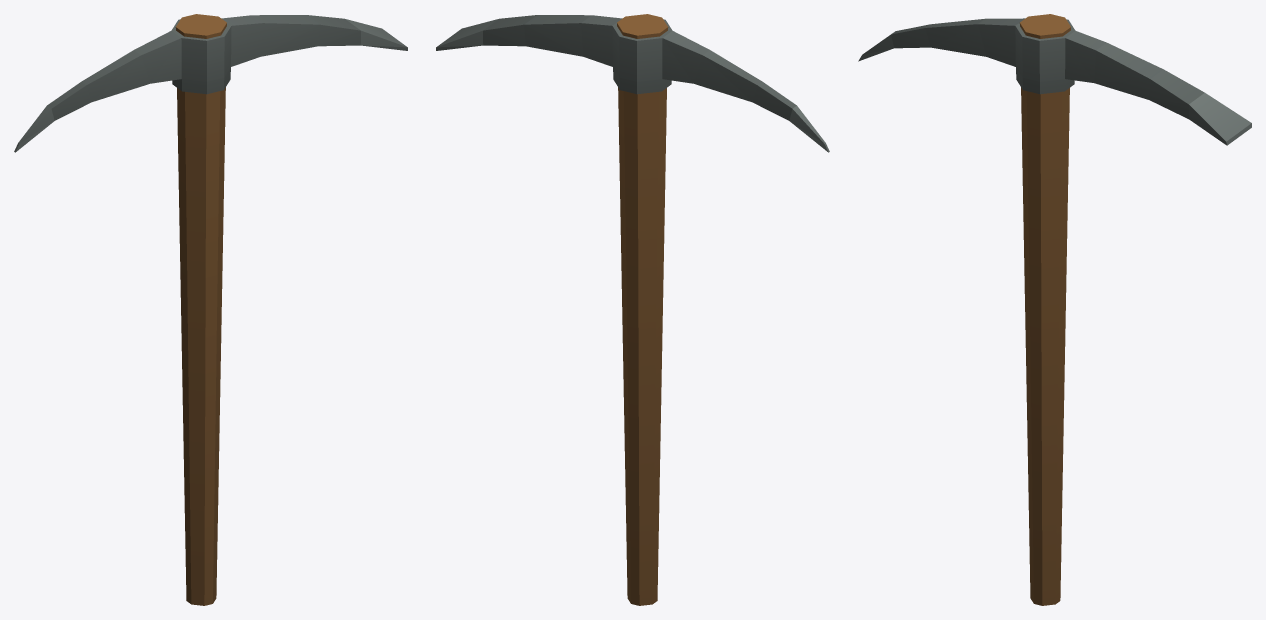
Rendered from Tool_Pickaxe_01.obj.
3 views of the same model, side by side, from view 1: azimuth 30°, elevation 25°; view 2: azimuth 150°, elevation 25°; view 3: azimuth 330°, elevation 25° (orthographic).
Parts seen in each view (by area): view 1: Tool_Pickaxe_01; view 2: Tool_Pickaxe_01; view 3: Tool_Pickaxe_01.
Boxes of the visible parts, x1,y1,x2,y2 form: Tool_Pickaxe_01: (14,14,407,605); Tool_Pickaxe_01: (436,14,829,605); Tool_Pickaxe_01: (858,14,1251,605).
Size of the model in its own units: 0.6033 by 0.8703 by 0.0793.
1 material, 1 textured.
